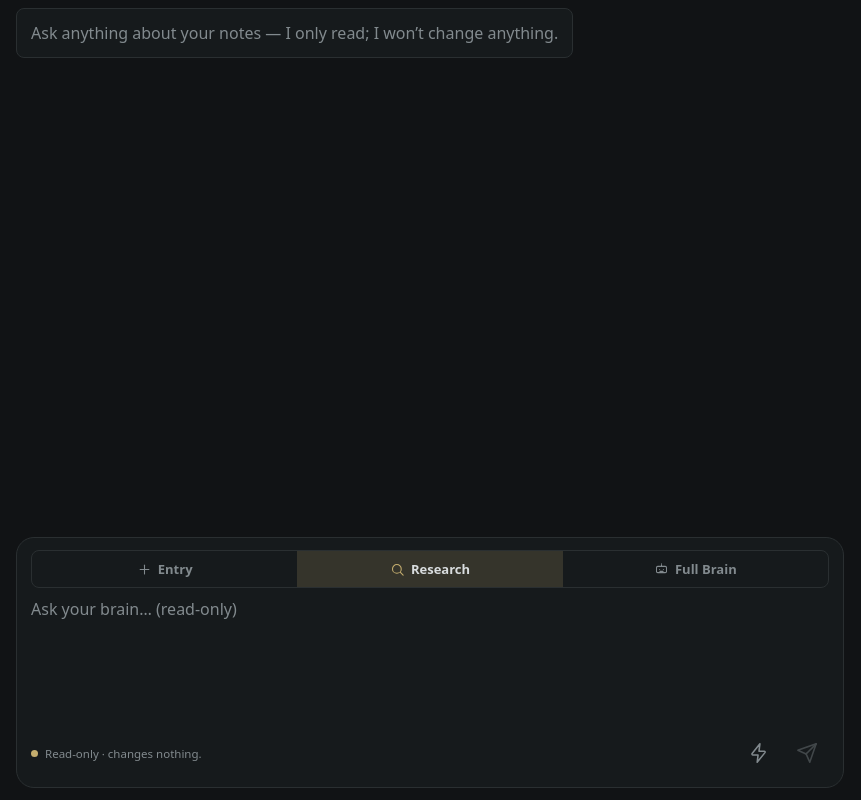
Test: Chat — Entry mode send › posts the typed text to /api/notes/entry and shows a Saved chip
Click the button "Entry" at (165, 569), box [32,551,297,587]
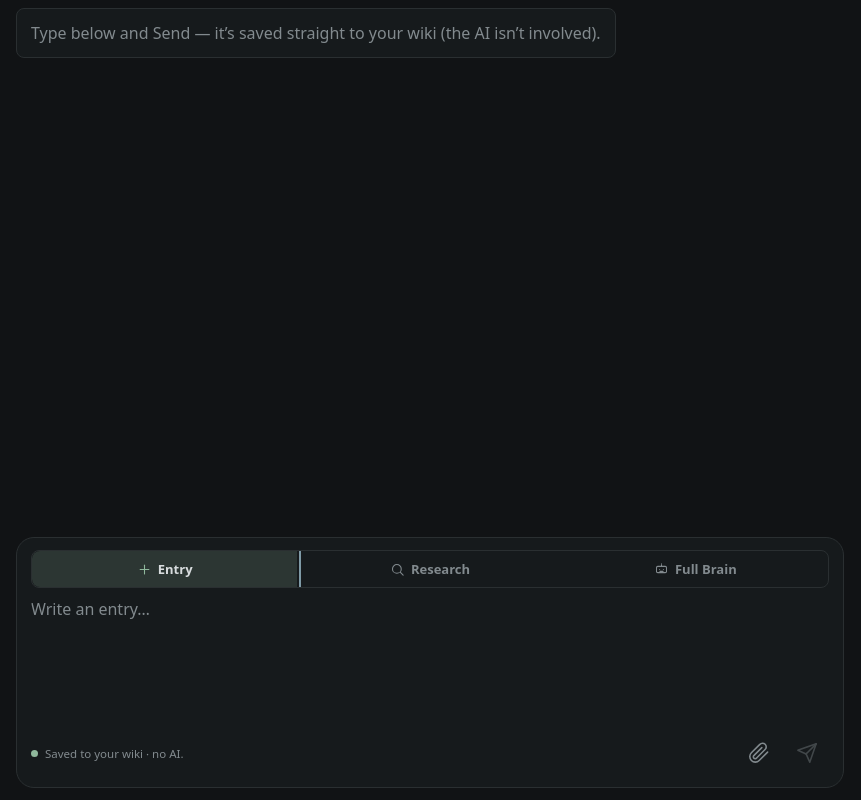
Type "Buy milk" into the text box with placeholder "Write an entry…" at (430, 658), box [31,598,829,718]
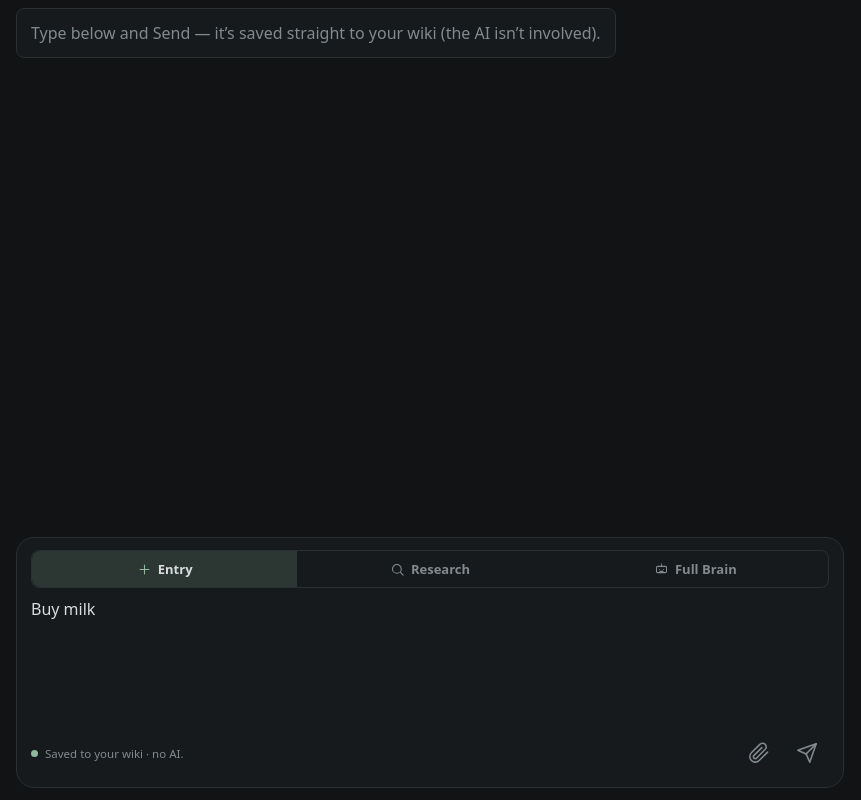
Click the button named "Send" at (807, 753), box [785,731,829,775]
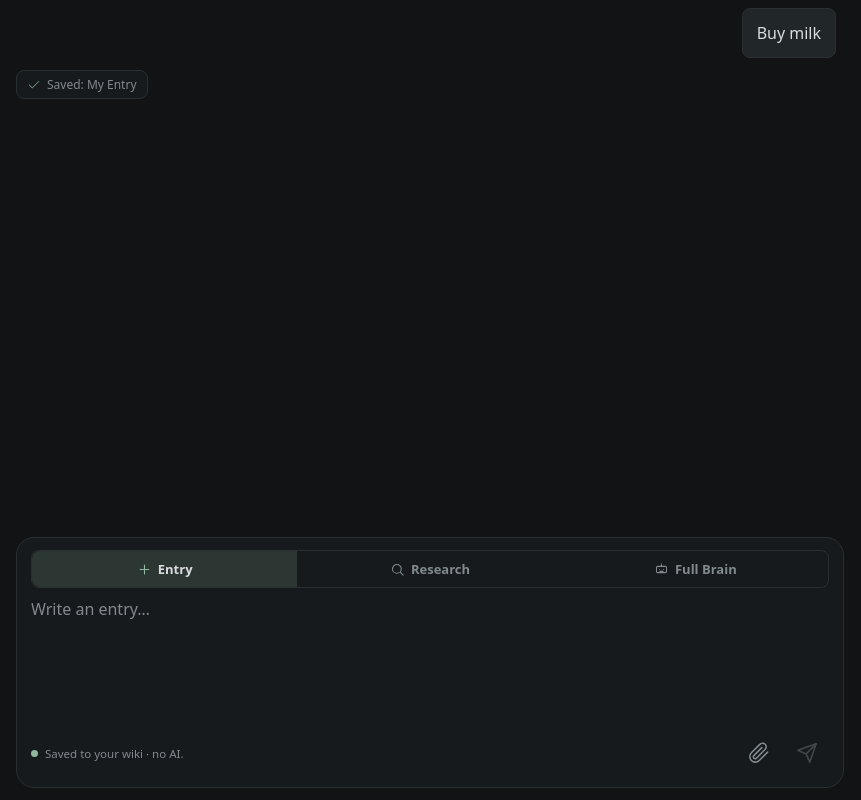
Result: the text "Buy milk" is shown at [742,8,836,58]
Result: the link "Saved: My Entry" is shown at [16,70,148,99]
